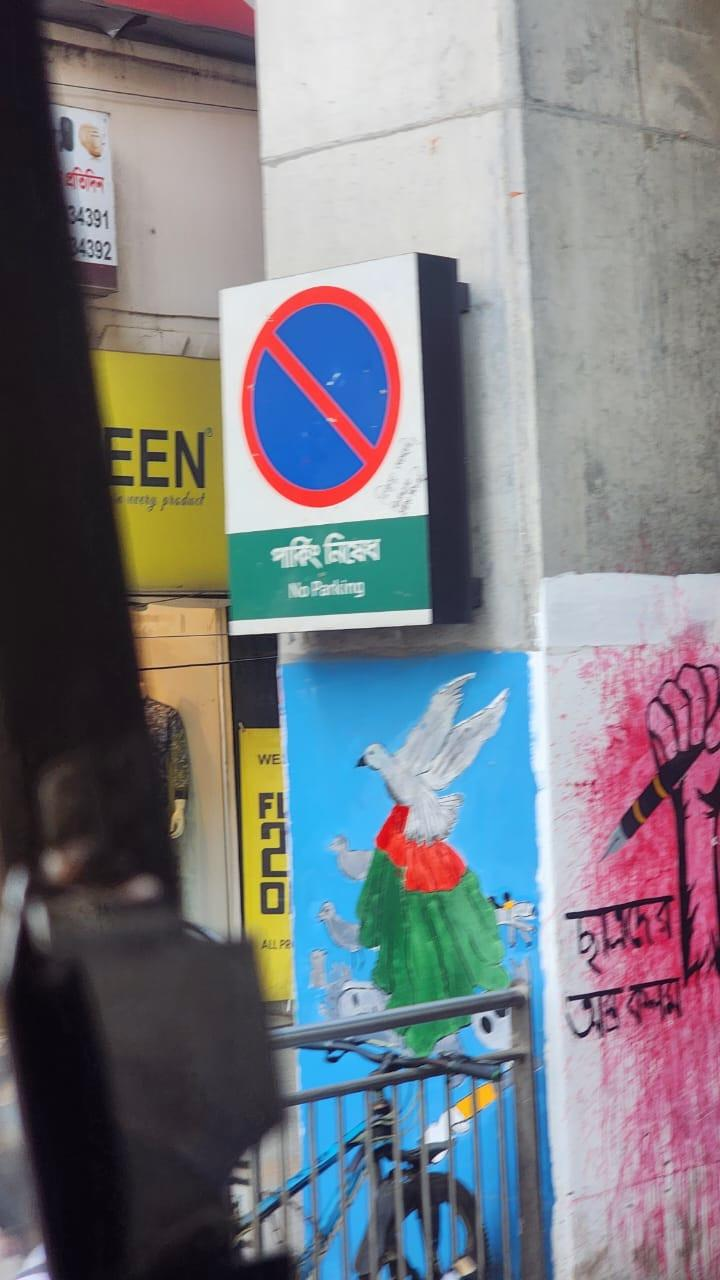No Parking: (216, 248, 468, 625)
